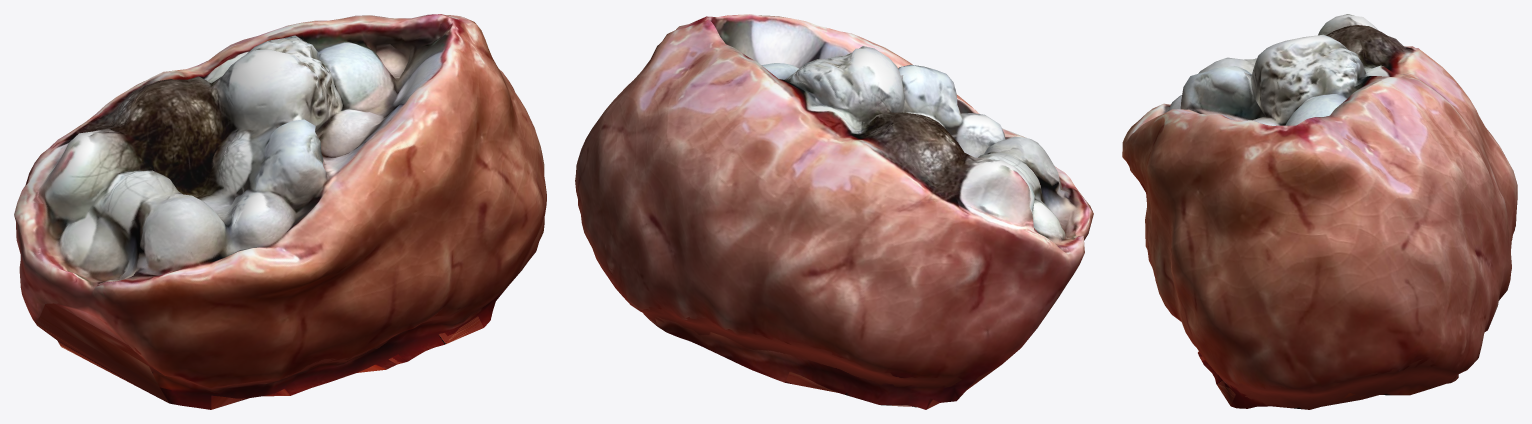
Rendered from teratoma.glb.
The picture shows the model from 3 angles, left to right: view 1: azimuth 30°, elevation 25°; view 2: azimuth 150°, elevation 25°; view 3: azimuth 270°, elevation 25°; orthographic projection. The views are drawn at different scales.
Visible parts, largest first — view 1: Teratoma_New_Mesh.001; view 2: Teratoma_New_Mesh.001; view 3: Teratoma_New_Mesh.001.
Boxes of the visible parts, x1,y1,x2,y2 form: Teratoma_New_Mesh.001: (14,14,546,409); Teratoma_New_Mesh.001: (575,14,1093,409); Teratoma_New_Mesh.001: (1122,14,1517,409).
Bounding box in the file's own units: 2.05 × 1.16 × 1.39.
Materials: 1 (1 with a texture image).
